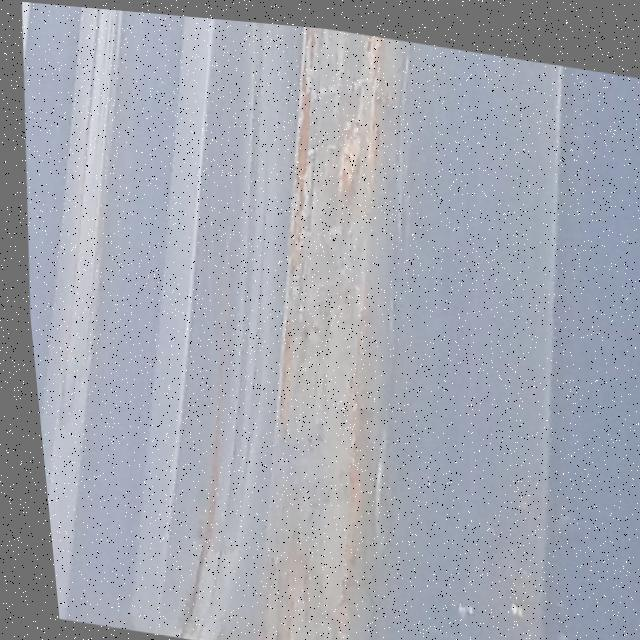dent: (123, 334, 279, 640)
